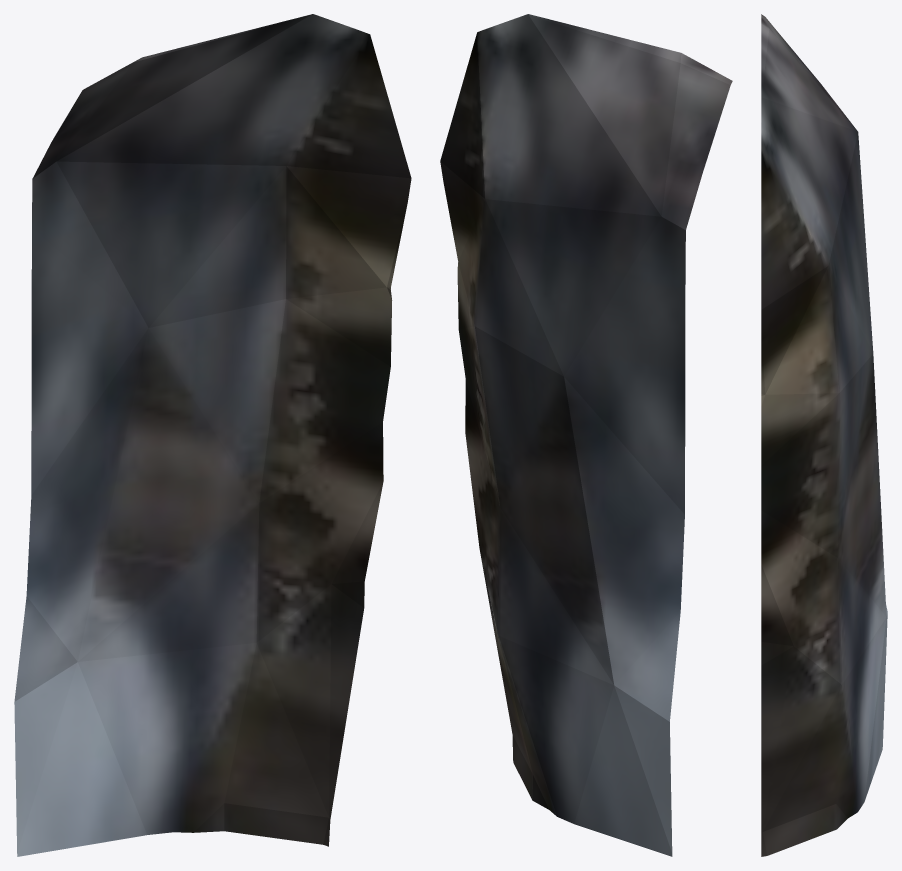
3 renders of one model, left to right at view 1: azimuth 30°, elevation 25°; view 2: azimuth 150°, elevation 25°; view 3: azimuth 270°, elevation 25°, orthographic. The views are drawn at different scales.
Size of the model in its own units: 0.1954 by 0.4781 by 0.0728.
1 material, 1 textured.
